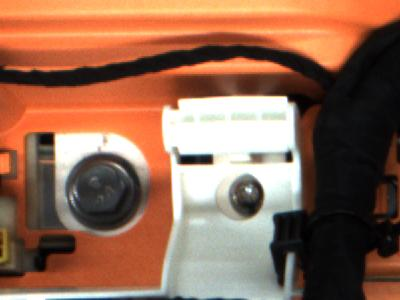nut_b: (61, 149, 148, 239)
